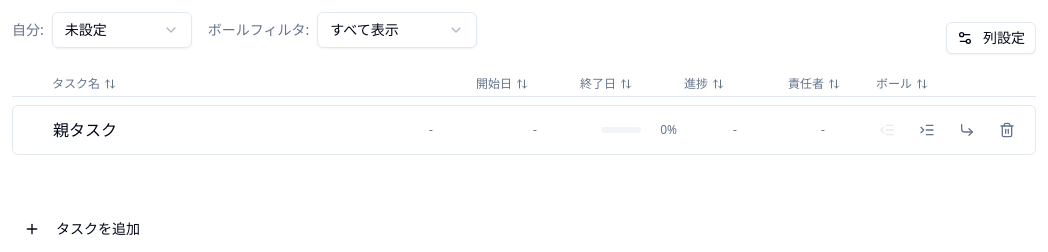
TaskList › サブタスク追加のインライン入力 › Escapeキーで入力がキャンセルされる
Click the button named "サブタスクを追加" at (967, 130), box [951, 114, 983, 146]
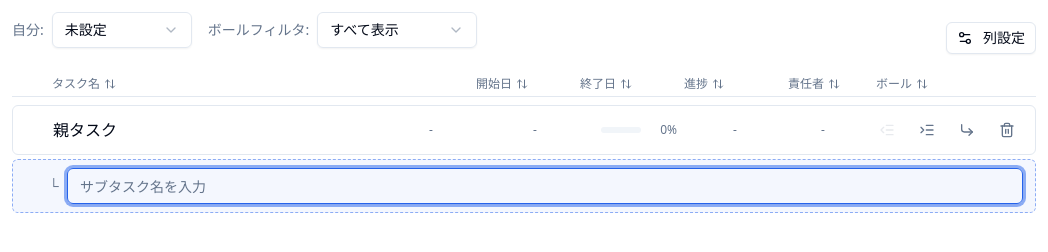
Type "キャンセルされるサブタスク" into the field with placeholder "サブタスク名を入力" at (545, 186), box [67, 168, 1023, 204]
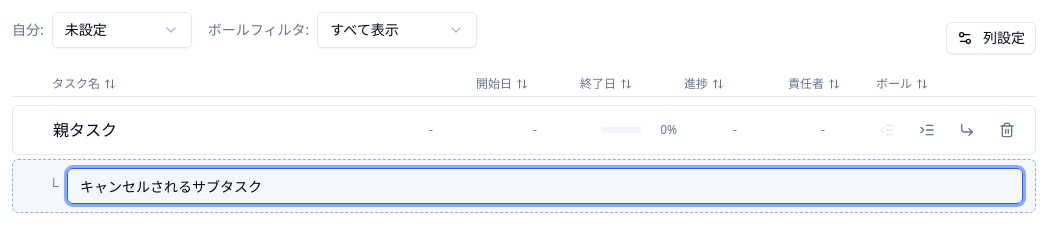
Press Escape
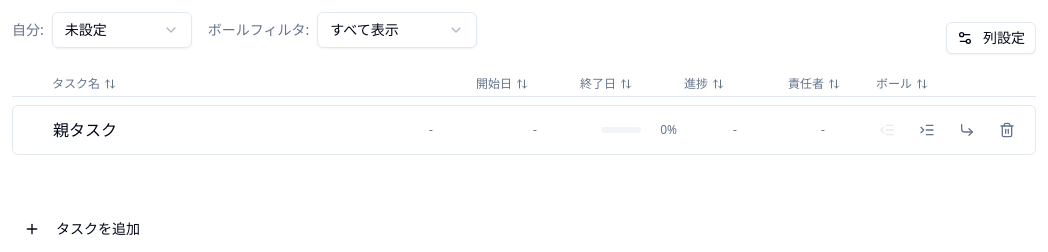
Expected: the text "キャンセルされるサブタスク" is not shown
Now the field with placeholder "サブタスク名を入力" is gone
